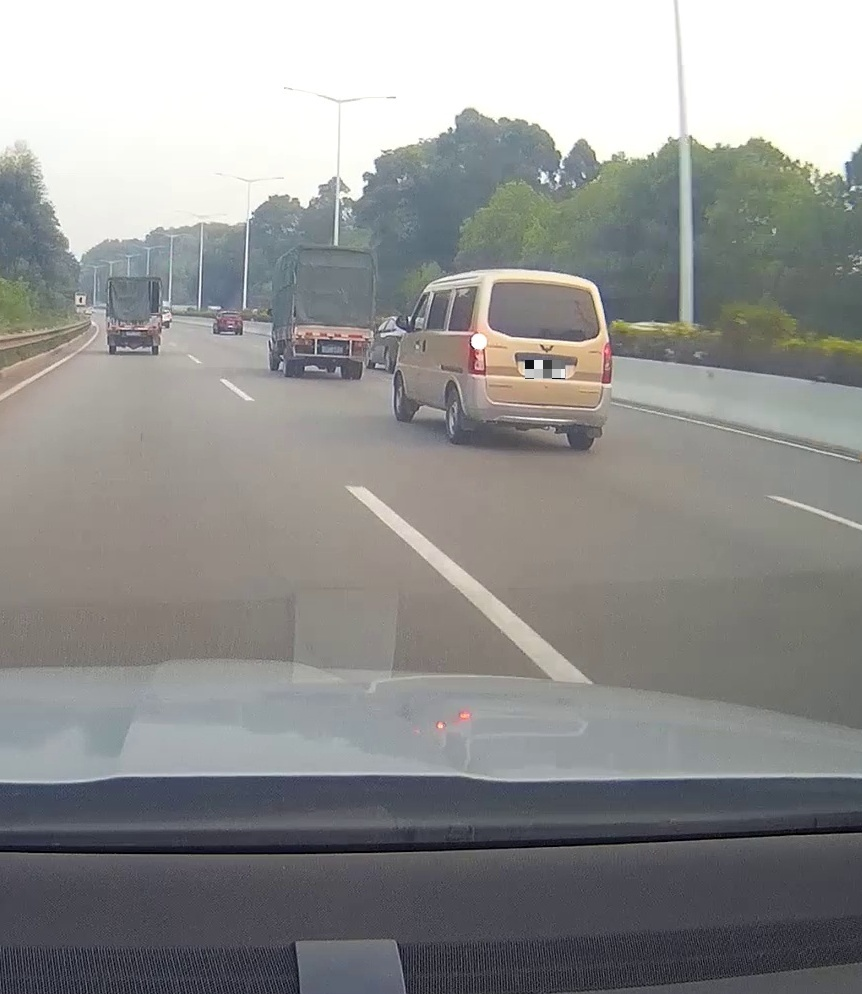L_light: (467, 331, 487, 375), (297, 339, 313, 345)
R_light: (601, 341, 612, 383), (355, 341, 370, 348)
T_light: (533, 284, 557, 289), (327, 333, 335, 336)
day-left: (463, 269, 613, 451)
day-no: (290, 244, 376, 379)
plate_1: (525, 360, 565, 379)
